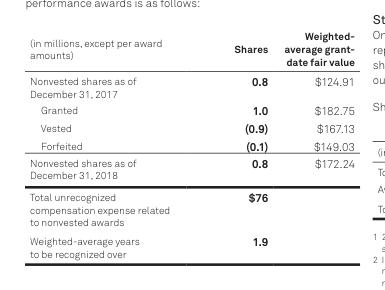table: (29, 29, 354, 259)
table column: (29, 29, 201, 259), (275, 29, 354, 259), (201, 29, 275, 259)
table column header: (29, 29, 354, 70)
table row: (29, 185, 354, 230), (29, 29, 354, 70), (29, 70, 354, 101), (29, 154, 354, 185), (29, 230, 354, 259), (29, 118, 354, 136), (29, 136, 354, 154), (29, 101, 354, 118)
